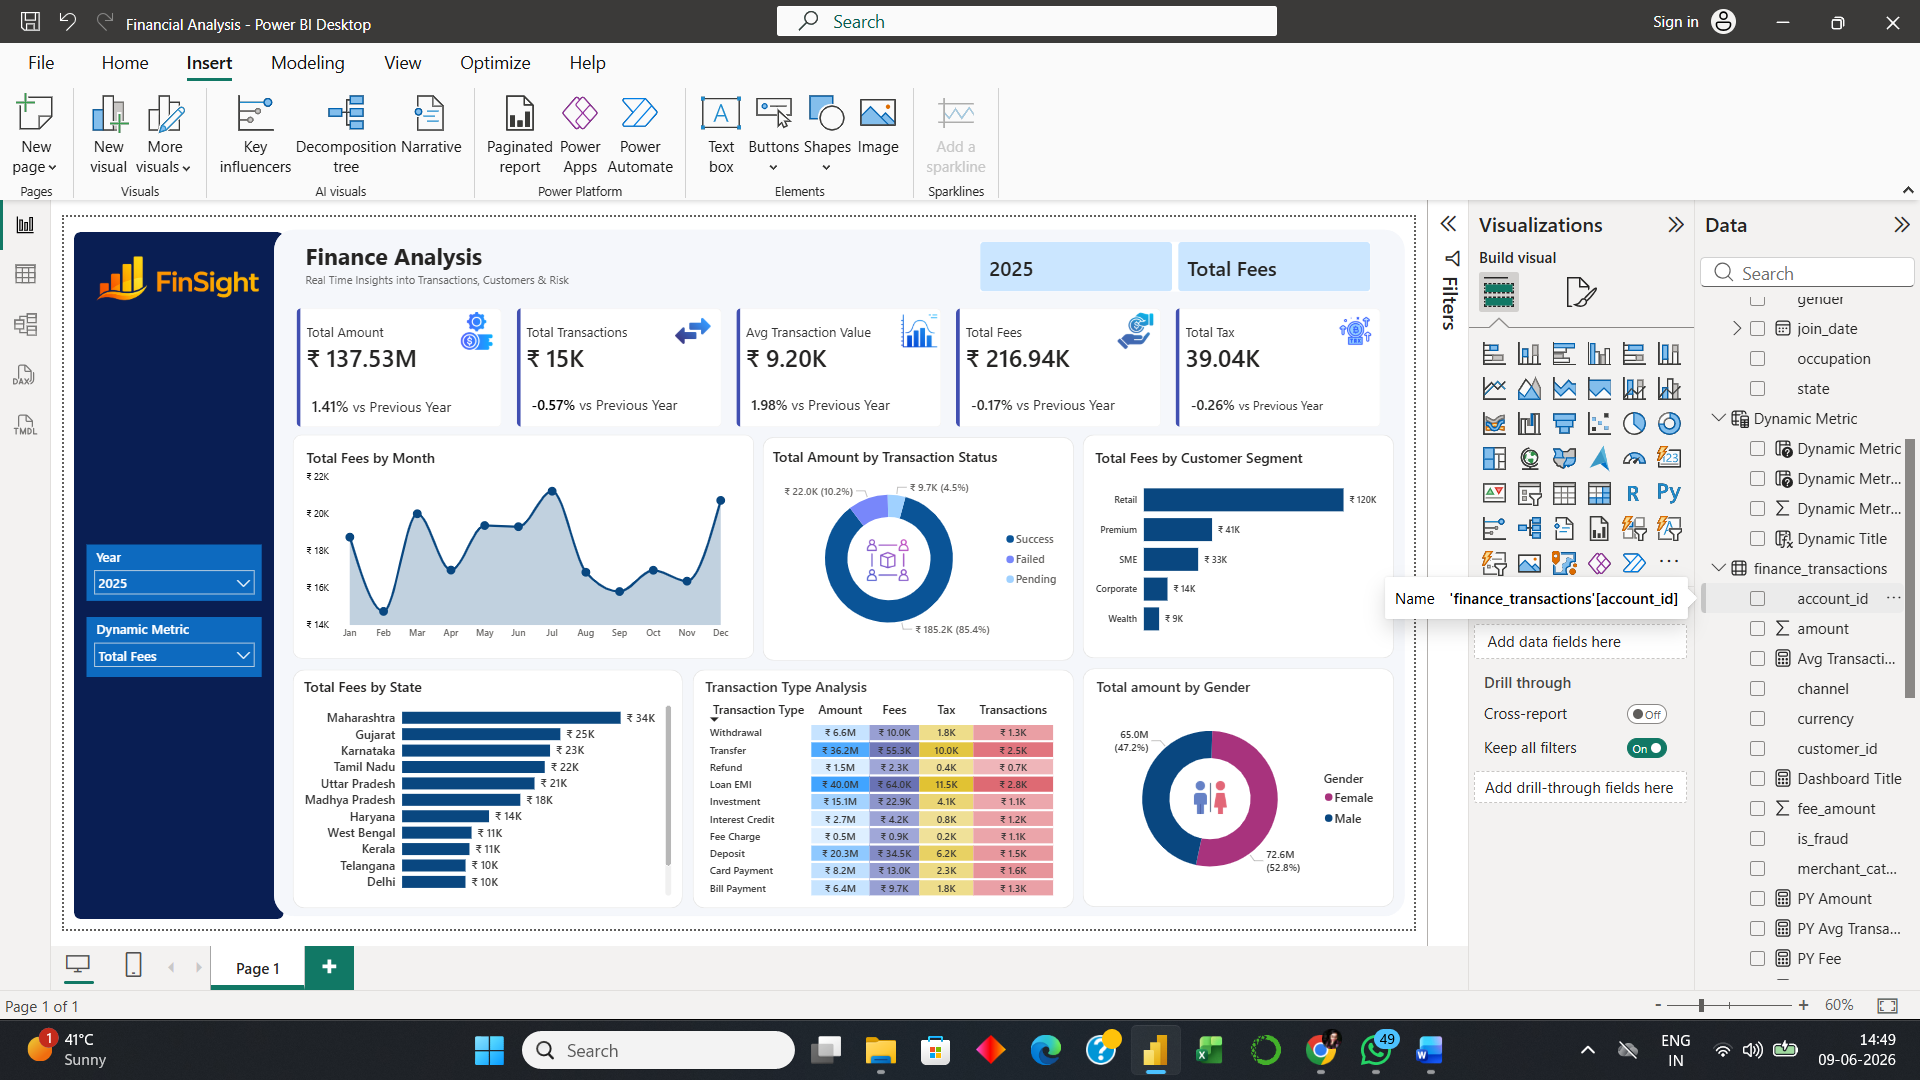

The page's visual inventory and layout, read from the dashboard file:
{"tool":"powerbi","page":{"name":"Overview Analysis","canvas":[1800,950],"ordinal":0},"visuals":[{"type":"shape","box":[13.5,19.3,279.8,916],"z":0},{"type":"shape","box":[292.7,19.6,1507.6,915.7],"z":1000},{"type":"image","box":[29.4,37.6,248.5,88.3],"z":2000},{"type":"cardVisual","fields":{"Data":["finance_transactions.Dashboard Title"]},"box":[305.8,19.6,405.5,85],"z":3000},{"type":"cardVisual","fields":{"Data":["finance_transactions.Total Amount","finance_transactions.Total Transactions","finance_transactions.Avg Transaction Value","finance_transactions.Total Fees","finance_transactions.Total Tax"]},"box":[292.7,104.7,1479.8,193],"z":4000},{"type":"slicer","fields":{"Values":["Calendar Table.Year"]},"box":[29.4,436.6,233.8,75.2],"z":5000},{"type":"image","box":[524.9,125.9,50.7,50.7],"z":6000},{"type":"image","box":[812.7,125.9,50.7,50.7],"z":7000},{"type":"image","box":[1115.2,125.9,50.7,50.7],"z":8000},{"type":"image","box":[1403,125.9,50.7,50.7],"z":9000},{"type":"image","box":[1697.3,125.9,50.7,50.7],"z":10000},{"type":"slicer","fields":{"Values":["Dynamic Metric.Dynamic Metric"]},"box":[29.4,533.1,233.8,80.1],"z":11000},{"type":"shape","box":[305.8,289.4,615,299],"z":12000},{"type":"areaChart","fields":{"Y":["finance_transactions.Total Amount"],"Category":["Calendar Table.Month"]},"box":[318.9,309,580.5,264.9],"z":13000},{"type":"cardVisual","fields":{"Data":["finance_transactions.Selected Year","finance_transactions.Selected Dynamic Measure"]},"box":[1216.7,28.3,530,76.7],"z":14000},{"type":"shape","box":[931.7,293.3,415,298.3],"z":15000},{"type":"donutChart","title":"Total Amount by Transaction Status","fields":{"Y":["finance_transactions.Total Amount"],"Category":["finance_transactions.transaction_status"]},"box":[940,306.7,398.3,273.3],"z":16000},{"type":"shape","box":[1358.3,290,415,298.3],"z":17000},{"type":"barChart","fields":{"Y":["finance_transactions.Total Amount"],"Category":["customers.customer_segment"]},"box":[1370,308.3,390,265],"z":18000},{"type":"shape","box":[305,603.3,520,318.3],"z":19000},{"type":"barChart","fields":{"Y":["finance_transactions.Total Amount"],"Category":["customers.state"]},"box":[315,613.3,500,296.7],"z":20000},{"type":"shape","box":[838.3,603.3,508.3,318.3],"z":21000},{"type":"tableEx","title":"Transaction Type Analysis","fields":{"Values":["finance_transactions.transaction_type","finance_transactions.Total Amount","finance_transactions.Total Fees","finance_transactions.Total Tax","finance_transactions.Total Transactions"]},"box":[850,613.3,486.7,296.7],"z":22000},{"type":"shape","box":[1358.3,601.7,415,318.3],"z":23000},{"type":"donutChart","title":"Total amount by Gender","fields":{"Category":["customers.gender"],"Y":["Sum(finance_transactions.amount)"]},"box":[1371.7,613.3,390,300],"z":24000},{"type":"image","box":[1503.3,740,50,68.3],"z":25000},{"type":"image","box":[1068.3,426.7,60,61.7],"z":26000},{"type":"image","box":[29.4,379.4,54,47.4],"z":27000},{"type":"slicer","fields":{"Values":["customers.occupation"]},"box":[29.4,634.4,233.8,88.3],"z":28000},{"type":"slicer","fields":{"Values":["finance_transactions.merchant_category"]},"box":[29.4,740.7,233.8,88.3],"z":29000},{"type":"image","box":[32.7,139,50.7,50.7],"z":30001},{"type":"pageNavigator","box":[29.4,209.3,233.8,158.6],"z":30002}]}

Visuals, with their boxes on the page's 1800x950 design canvas (x1, y1, x2, y2). These are canvas units, not pixel positions in the 1920x1080 screenshot, which may show the page scaled, cropped or inside an application window:
shape: (left=14, top=19, right=293, bottom=935)
shape: (left=293, top=20, right=1800, bottom=935)
image: (left=29, top=38, right=278, bottom=126)
cardVisual - finance_transactions.Dashboard Title: (left=306, top=20, right=711, bottom=105)
cardVisual - finance_transactions.Total Amount x finance_transactions.Total Transactions: (left=293, top=105, right=1772, bottom=298)
slicer - Calendar Table.Year: (left=29, top=437, right=263, bottom=512)
image: (left=525, top=126, right=576, bottom=177)
image: (left=813, top=126, right=863, bottom=177)
image: (left=1115, top=126, right=1166, bottom=177)
image: (left=1403, top=126, right=1454, bottom=177)
image: (left=1697, top=126, right=1748, bottom=177)
slicer - Dynamic Metric.Dynamic Metric: (left=29, top=533, right=263, bottom=613)
shape: (left=306, top=289, right=921, bottom=588)
areaChart - finance_transactions.Total Amount x Calendar Table.Month: (left=319, top=309, right=899, bottom=574)
cardVisual - finance_transactions.Selected Year x finance_transactions.Selected Dynamic Measure: (left=1217, top=28, right=1747, bottom=105)
shape: (left=932, top=293, right=1347, bottom=592)
"Total Amount by Transaction Status" donutChart: (left=940, top=307, right=1338, bottom=580)
shape: (left=1358, top=290, right=1773, bottom=588)
barChart - finance_transactions.Total Amount x customers.customer_segment: (left=1370, top=308, right=1760, bottom=573)
shape: (left=305, top=603, right=825, bottom=922)
barChart - finance_transactions.Total Amount x customers.state: (left=315, top=613, right=815, bottom=910)
shape: (left=838, top=603, right=1347, bottom=922)
"Transaction Type Analysis" tableEx: (left=850, top=613, right=1337, bottom=910)
shape: (left=1358, top=602, right=1773, bottom=920)
"Total amount by Gender" donutChart: (left=1372, top=613, right=1762, bottom=913)
image: (left=1503, top=740, right=1553, bottom=808)
image: (left=1068, top=427, right=1128, bottom=488)
image: (left=29, top=379, right=83, bottom=427)
slicer - customers.occupation: (left=29, top=634, right=263, bottom=723)
slicer - finance_transactions.merchant_category: (left=29, top=741, right=263, bottom=829)
image: (left=33, top=139, right=83, bottom=190)
pageNavigator: (left=29, top=209, right=263, bottom=368)
